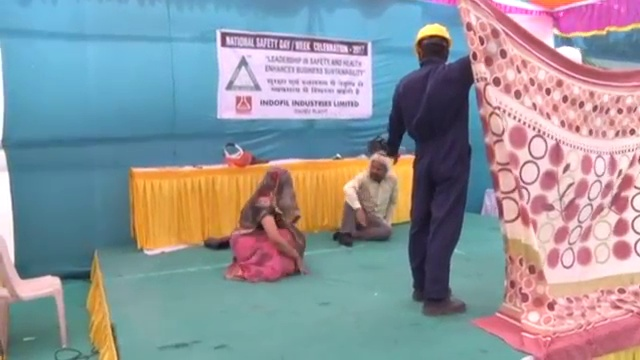helmet: (415, 22, 453, 47)
helmet_off: (366, 151, 392, 185), (265, 165, 293, 191)
helmet_on: (414, 22, 453, 69)
person: (386, 23, 476, 317), (229, 166, 308, 282), (340, 152, 399, 246)
